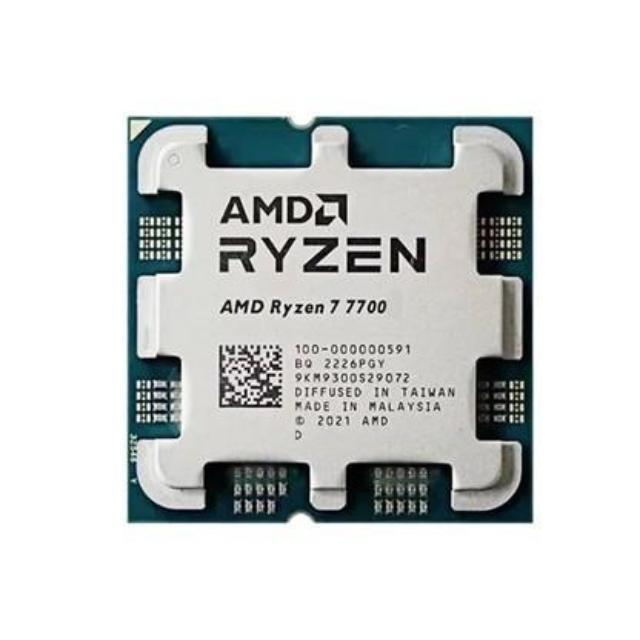CPU: (128, 120, 534, 520)
